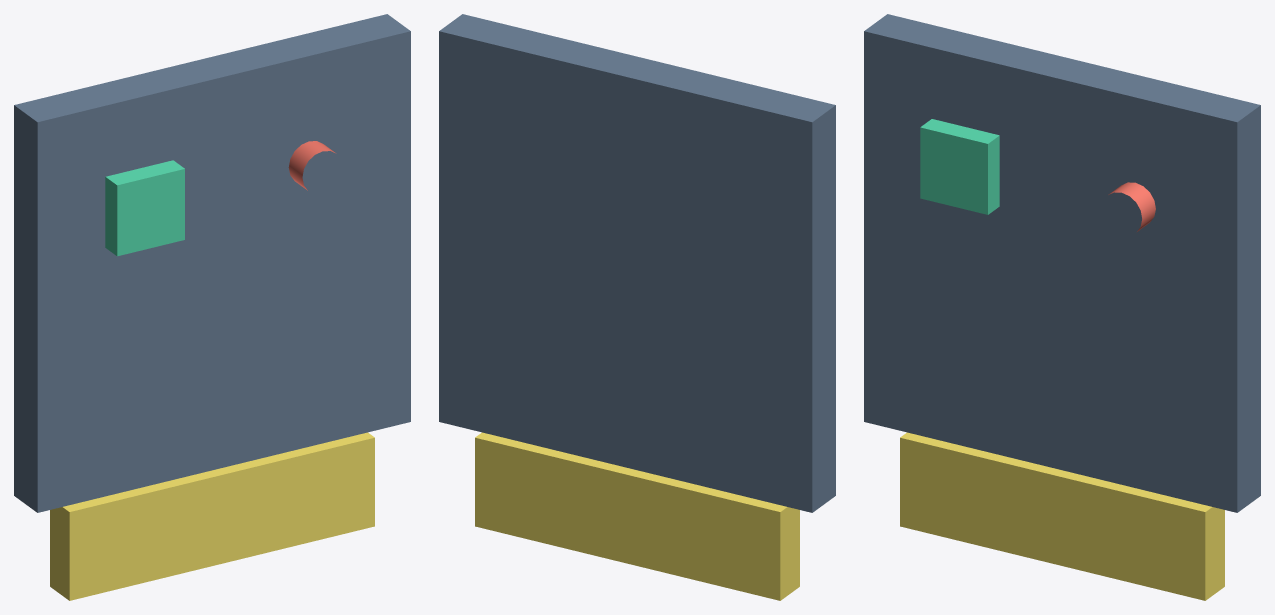
Rendered from kmap_boolean_minimization.glb.
3 renders of one model, left to right at view 1: azimuth 30°, elevation 25°; view 2: azimuth 150°, elevation 25°; view 3: azimuth 330°, elevation 25°, orthographic.
Visible parts, largest first — view 1: KMap4VariableGridArray, SOPBooleanOutputDisplay, IlluminatedLogicCellSwitches, SubcubeGroupingIndicatorLEDs; view 2: KMap4VariableGridArray, SOPBooleanOutputDisplay; view 3: KMap4VariableGridArray, SOPBooleanOutputDisplay, IlluminatedLogicCellSwitches, SubcubeGroupingIndicatorLEDs.
Boxes of the visible parts, bbox=[...] form: KMap4VariableGridArray: bbox=[14, 14, 410, 512]; SOPBooleanOutputDisplay: bbox=[50, 432, 374, 600]; IlluminatedLogicCellSwitches: bbox=[105, 160, 184, 256]; SubcubeGroupingIndicatorLEDs: bbox=[288, 141, 336, 190]; KMap4VariableGridArray: bbox=[439, 14, 835, 512]; SOPBooleanOutputDisplay: bbox=[475, 432, 799, 600]; KMap4VariableGridArray: bbox=[864, 14, 1260, 512]; SOPBooleanOutputDisplay: bbox=[900, 432, 1224, 600]; IlluminatedLogicCellSwitches: bbox=[920, 119, 999, 214]; SubcubeGroupingIndicatorLEDs: bbox=[1108, 182, 1155, 231].
Bounding box in the file's own units: 1.1 × 1.38 × 0.19.
